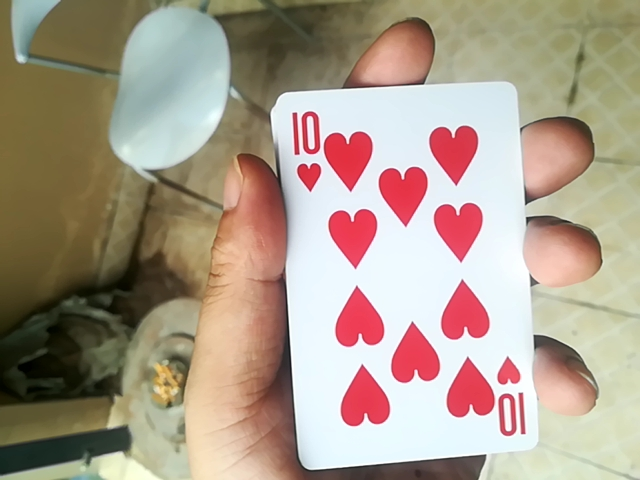hx 10: (283, 80, 531, 476)
